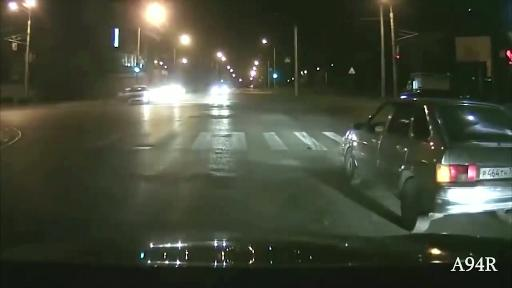Accident: (93, 77, 271, 123)
CAR: (337, 70, 512, 232)
